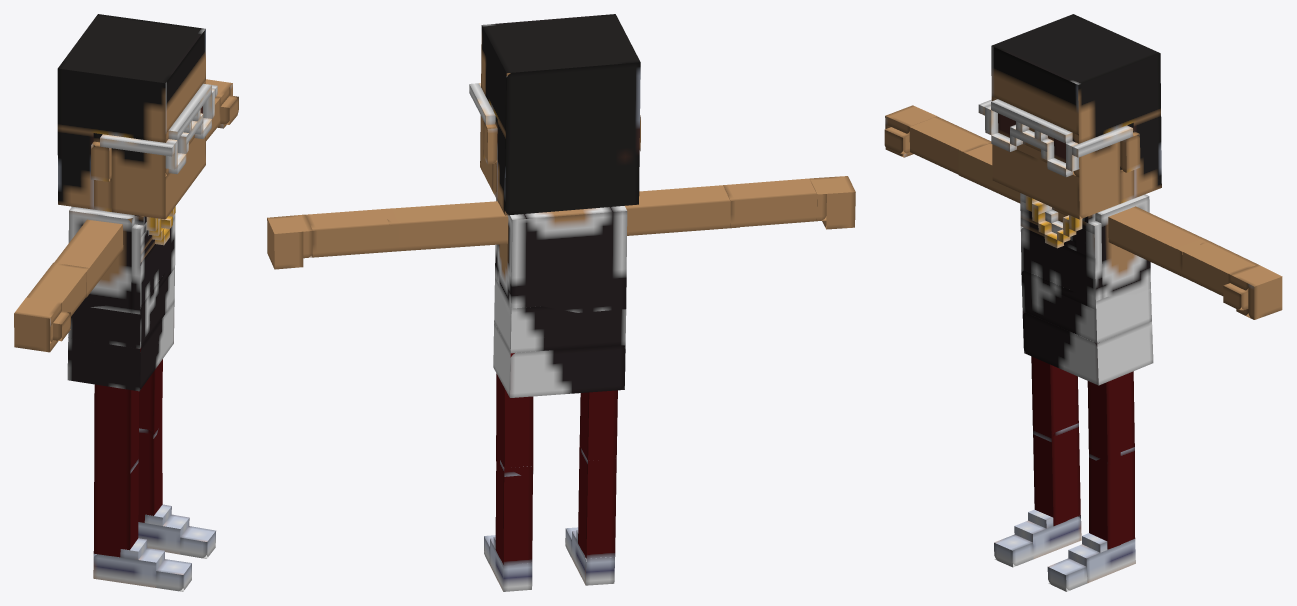
The model's file is Fangliannan.obj.
The picture shows the model from 3 angles, left to right: view 1: azimuth 30°, elevation 25°; view 2: azimuth 150°, elevation 25°; view 3: azimuth 270°, elevation 25°; orthographic projection. The views are drawn at different scales.
Parts seen in each view (by area): view 1: Model; view 2: Model; view 3: Model.
Boxes of the visible parts, x1,y1,x2,y2 form: Model: (14, 14, 238, 591); Model: (267, 14, 855, 591); Model: (884, 14, 1282, 591).
Bounding box in the file's own units: 48.08 × 60.32 × 43.
Materials: 1 (1 with a texture image).
